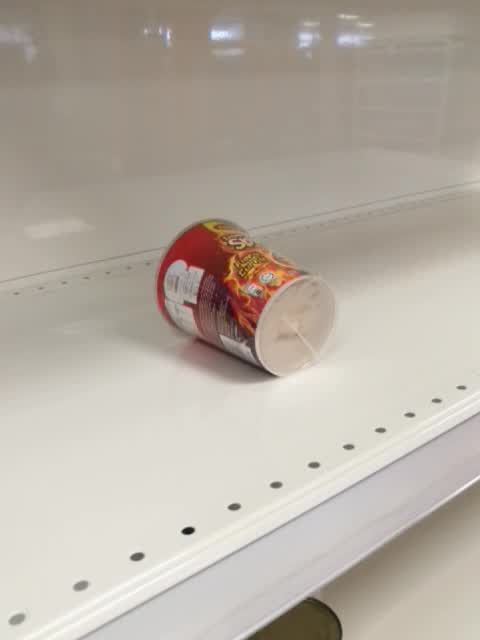maggi: (151, 216, 338, 382)
